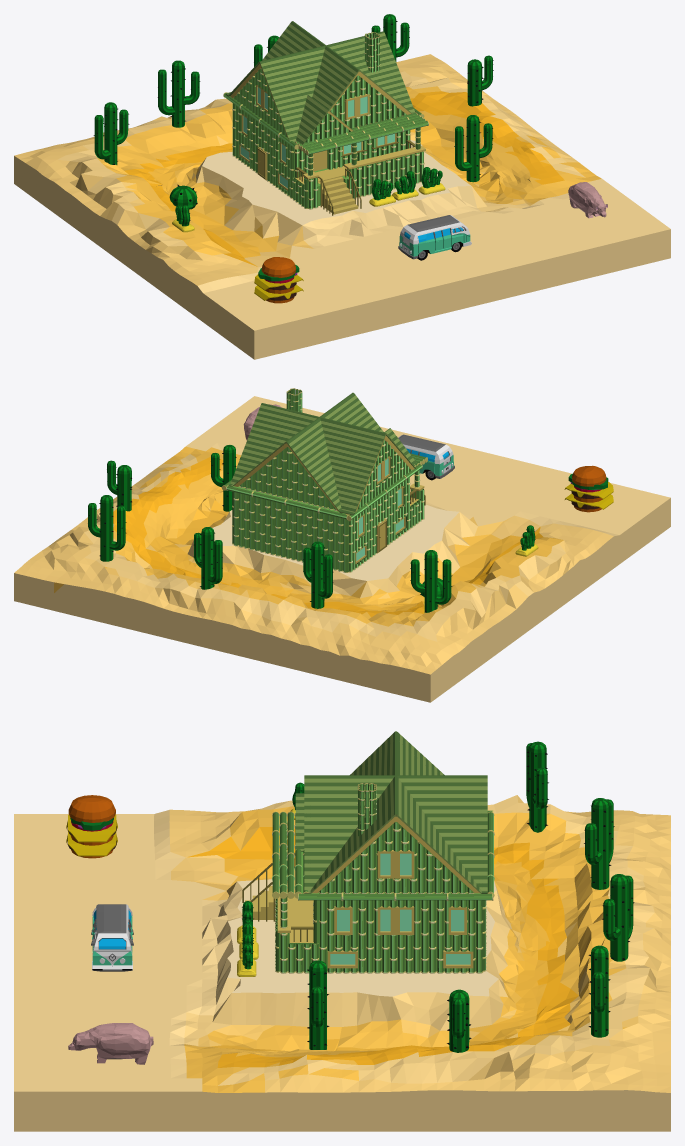
3 renders of one model, top to bottom at view 1: azimuth 30°, elevation 25°; view 2: azimuth 150°, elevation 25°; view 3: azimuth 270°, elevation 25°, orthographic. The views are drawn at different scales.
Visible parts, largest first — view 1: Cube.001, Cube.1327, VEHICLES_VAN, OBJRANDOM_HAMBURGER, Cylinder.037, Cylinder.044, Cylinder.045, Cylinder.038, ANIMAL_HIPOPOTAMO, Cylinder.042, Cylinder.039, Cylinder.041 (+2 smaller); view 2: Cube.001, Cube.1327, OBJRANDOM_HAMBURGER, Cylinder.042, Cylinder.045, Cylinder.044, VEHICLES_VAN, Cylinder.043, Cylinder.037, Cylinder.038; view 3: Cube.001, Cube.1327, OBJRANDOM_HAMBURGER, VEHICLES_VAN, ANIMAL_HIPOPOTAMO, Cylinder.043, Cylinder.044, Cylinder.045, Cylinder.042, Cylinder.037, Cylinder.038, Cylinder.041.
Boxes of the visible parts, bbox=[...] form: Cube.001: bbox=[14, 54, 670, 359]; Cube.1327: bbox=[223, 21, 428, 215]; VEHICLES_VAN: bbox=[398, 215, 471, 260]; OBJRANDOM_HAMBURGER: bbox=[254, 257, 303, 303]; Cylinder.037: bbox=[454, 115, 493, 182]; Cylinder.044: bbox=[157, 60, 200, 127]; Cylinder.045: bbox=[93, 102, 129, 164]; Cylinder.038: bbox=[467, 55, 493, 106]; ANIMAL_HIPOPOTAMO: bbox=[568, 182, 607, 218]; Cylinder.042: bbox=[371, 14, 409, 61]; Cylinder.039: bbox=[369, 179, 395, 206]; Cylinder.041: bbox=[418, 167, 445, 194]; Cube.001: bbox=[14, 396, 670, 702]; Cube.1327: bbox=[221, 388, 427, 572]; OBJRANDOM_HAMBURGER: bbox=[564, 465, 613, 512]; Cylinder.042: bbox=[88, 495, 126, 561]; Cylinder.045: bbox=[410, 550, 452, 612]; Cylinder.044: bbox=[303, 541, 333, 608]; VEHICLES_VAN: bbox=[398, 434, 454, 480]; Cylinder.043: bbox=[193, 527, 222, 589]; Cylinder.037: bbox=[211, 445, 240, 511]; Cylinder.038: bbox=[107, 460, 131, 511]; Cube.001: bbox=[14, 795, 670, 1131]; Cube.1327: bbox=[242, 731, 494, 973]; OBJRANDOM_HAMBURGER: bbox=[66, 795, 117, 858]; VEHICLES_VAN: bbox=[91, 904, 133, 971]; ANIMAL_HIPOPOTAMO: bbox=[68, 1023, 153, 1064]; Cylinder.043: bbox=[602, 874, 634, 961]; Cylinder.044: bbox=[584, 798, 614, 889]; Cylinder.045: bbox=[526, 741, 548, 832]; Cylinder.042: bbox=[588, 945, 610, 1037]; Cylinder.037: bbox=[307, 960, 329, 1049]; Cylinder.038: bbox=[447, 989, 471, 1052]; Cylinder.041: bbox=[237, 934, 256, 976].
Bounding box in the file's own units: 4002 × 1639 × 4001.
32 materials, 3 textured.
